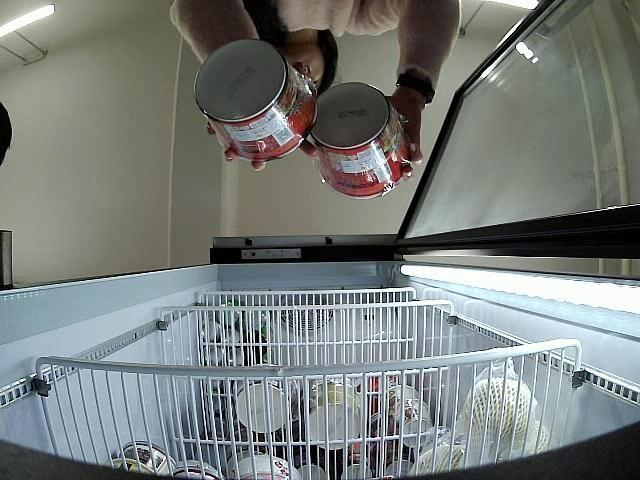01_ShinRamen_L: (196, 38, 320, 161), (314, 80, 406, 200)
